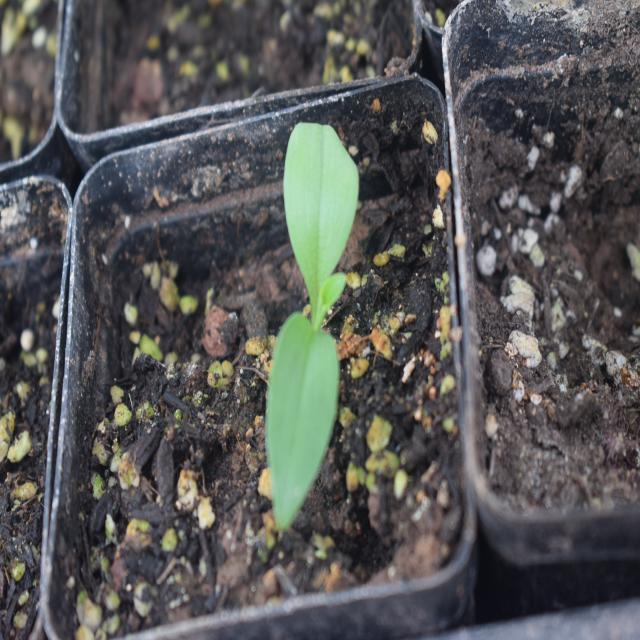Common Dayflower: (231, 99, 372, 489)
